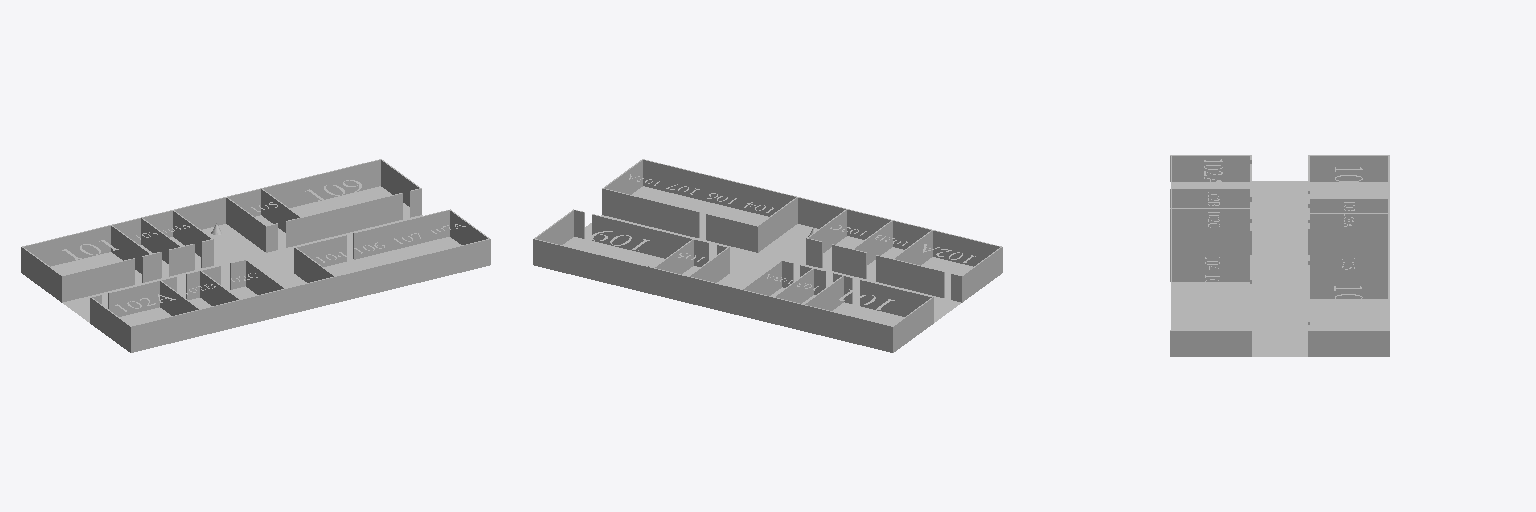
File: wood1.obj
The picture shows the model from 3 angles: view 1: azimuth 30°, elevation 25°; view 2: azimuth 150°, elevation 25°; view 3: azimuth 270°, elevation 25°; orthographic projection.
Visible parts, largest first — view 1: pCube13, pPlane1, pCube12, pCube20, pCube18, pCube23, pCube14, pCube6, pCube7, pCube3, pCube16, pCube2 (+12 smaller); view 2: pCube12, pPlane1, pCube13, pCube18, pCube20, pCube14, pCube23, pCube16, pCube6, pCube7, pCube9, pCube28 (+10 smaller); view 3: pPlane1, pCube11, pCube2, pCube9, pCube4, pCube1, pCube7, pCube6, pCube29, pCube25, pCube8, pCube3 (+2 smaller).
Boxes of the visible parts, x1=… form: pCube13: x1=132, y1=239, x2=489, y2=352; pPlane1: x1=51, y1=186, x2=460, y2=325; pCube12: x1=21, y1=159, x2=381, y2=272; pCube20: x1=286, y1=193, x2=402, y2=247; pCube18: x1=353, y1=209, x2=450, y2=259; pCube23: x1=63, y1=258, x2=134, y2=301; pCube14: x1=108, y1=276, x2=176, y2=316; pCube6: x1=22, y1=247, x2=62, y2=302; pCube7: x1=91, y1=298, x2=131, y2=352; pCube3: x1=226, y1=197, x2=266, y2=252; pCube16: x1=294, y1=235, x2=346, y2=273; pCube2: x1=381, y1=160, x2=421, y2=214; pCube12: x1=533, y1=239, x2=893, y2=352; pPlane1: x1=562, y1=186, x2=972, y2=325; pCube13: x1=643, y1=159, x2=1001, y2=266; pCube18: x1=602, y1=188, x2=699, y2=237; pCube20: x1=592, y1=214, x2=708, y2=266; pCube14: x1=876, y1=255, x2=944, y2=297; pCube23: x1=860, y1=280, x2=931, y2=316; pCube16: x1=706, y1=214, x2=758, y2=252; pCube6: x1=894, y1=297, x2=933, y2=351; pCube7: x1=962, y1=247, x2=1002, y2=301; pCube9: x1=758, y1=197, x2=797, y2=251; pCube28: x1=832, y1=244, x2=866, y2=278; pPlane1: x1=1172, y1=181, x2=1387, y2=356; pCube11: x1=1170, y1=330, x2=1249, y2=356; pCube2: x1=1310, y1=330, x2=1387, y2=356; pCube9: x1=1170, y1=255, x2=1249, y2=281; pCube4: x1=1308, y1=229, x2=1387, y2=254; pCube1: x1=1310, y1=272, x2=1387, y2=298; pCube7: x1=1170, y1=155, x2=1249, y2=181; pCube6: x1=1308, y1=155, x2=1387, y2=181; pCube29: x1=1170, y1=231, x2=1249, y2=254; pCube25: x1=1170, y1=208, x2=1249, y2=230; pCube8: x1=1170, y1=189, x2=1249, y2=207; pCube3: x1=1310, y1=255, x2=1387, y2=271.
Size of the model in its own units: 2865 by 201 by 1508.